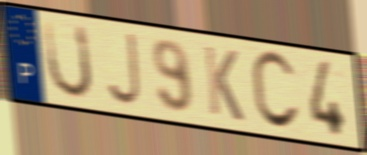4: (308, 58, 349, 139)
9: (150, 37, 196, 116)
C: (248, 48, 302, 133)
J: (103, 31, 143, 108)
K: (201, 42, 246, 125)
U: (42, 18, 95, 101)
